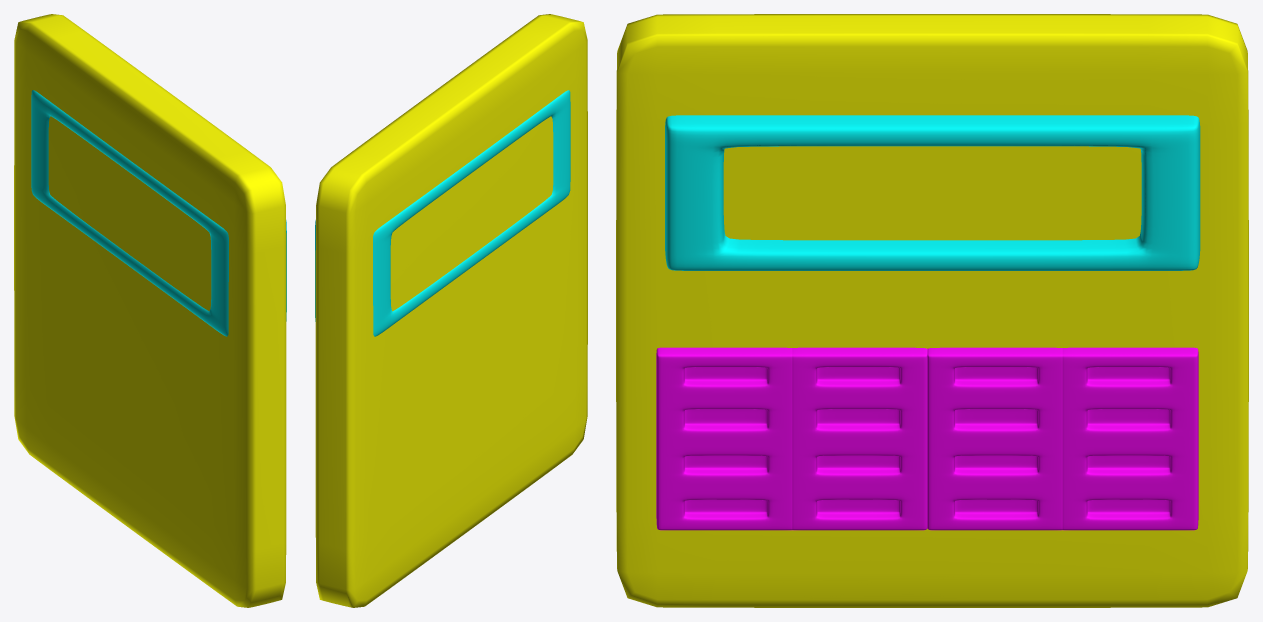
3 renders of one model, left to right at view 1: azimuth 30°, elevation 25°; view 2: azimuth 150°, elevation 25°; view 3: azimuth 270°, elevation 25°, orthographic. The views are drawn at different scales.
Parts seen in each view (by area): view 1: polySurface929; view 2: polySurface929; view 3: polySurface929.
Boxes of the visible parts, x1,y1,x2,y2 form: polySurface929: (14, 14, 286, 607); polySurface929: (315, 14, 587, 607); polySurface929: (616, 14, 1248, 607).
Size of the model in its own units: 0.1498 by 0.9994 by 0.9994.
